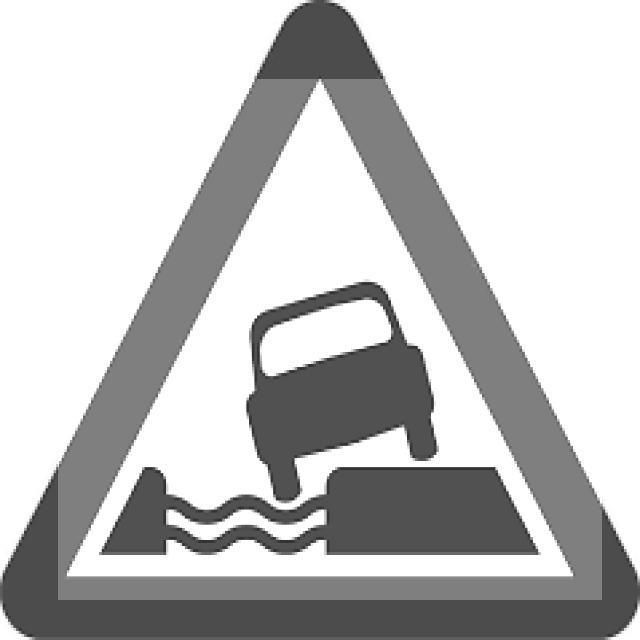quay side or river bank: (27, 29, 619, 622)
